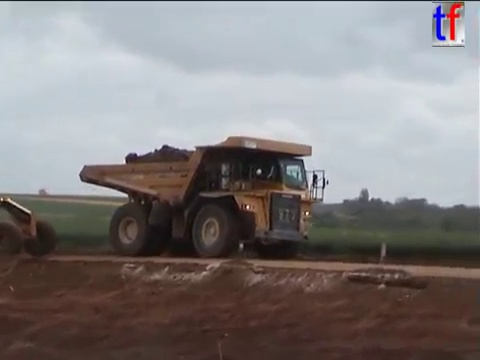truck: (76, 133, 332, 260)
